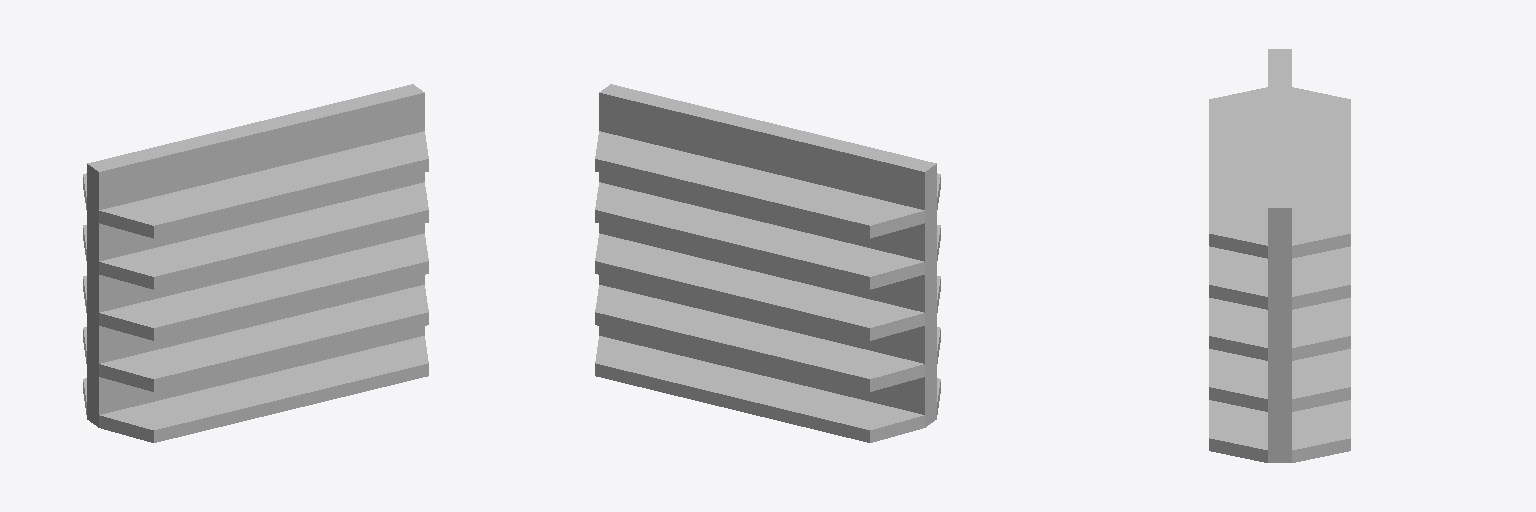
Rendered from shelf-2.obj.
3 renders of one model, left to right at view 1: azimuth 30°, elevation 25°; view 2: azimuth 150°, elevation 25°; view 3: azimuth 270°, elevation 25°, orthographic.
Visible parts, largest first — view 1: pCube7; view 2: pCube7; view 3: pCube7.
Boxes of the visible parts, x1=… form: pCube7: x1=83, y1=84, x2=428, y2=442; pCube7: x1=595, y1=84, x2=940, y2=442; pCube7: x1=1209, y1=49, x2=1350, y2=462.
Size of the model in its own units: 8 by 6 by 3.